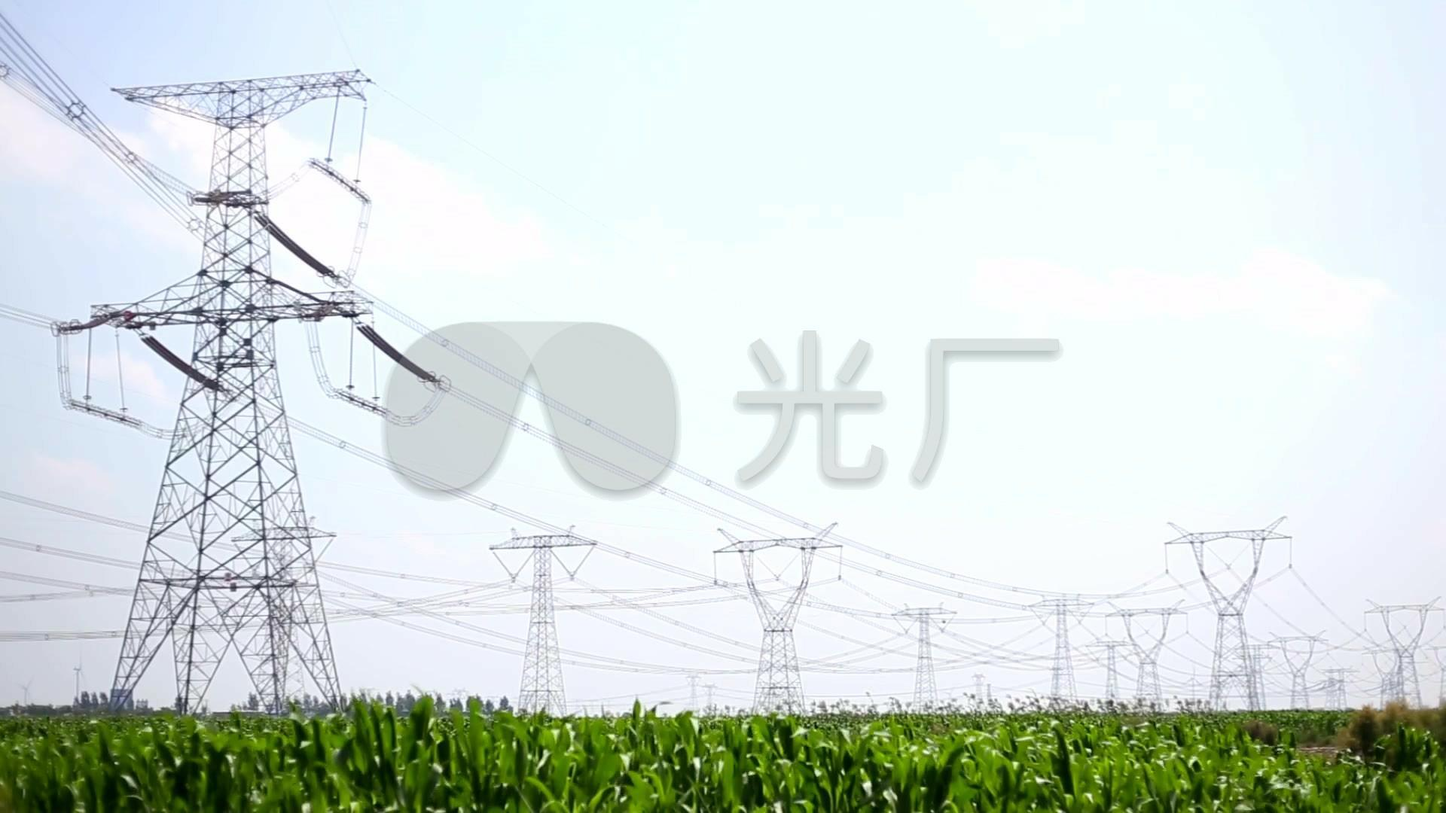power_tower: (93, 61, 395, 705), (699, 516, 839, 715), (1167, 515, 1295, 729), (493, 524, 612, 701), (1025, 588, 1103, 710), (888, 594, 963, 714), (1108, 589, 1181, 712), (1264, 623, 1324, 715)
